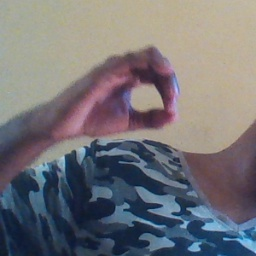O: (65, 40, 188, 146)
